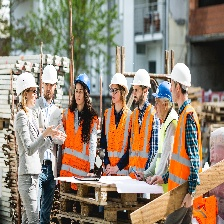helmet: (170, 62, 194, 93), (153, 85, 176, 108), (13, 73, 38, 93), (72, 71, 92, 96), (109, 70, 128, 96), (39, 63, 58, 86), (131, 69, 152, 88)
no-vest: (36, 97, 64, 176), (15, 108, 39, 186)
person: (167, 62, 207, 224), (12, 72, 45, 222), (61, 72, 99, 184), (122, 68, 157, 185), (40, 64, 64, 224), (101, 74, 136, 181), (151, 82, 179, 184)
vest: (171, 107, 201, 201), (61, 104, 94, 179), (104, 102, 132, 174), (128, 106, 154, 175)
